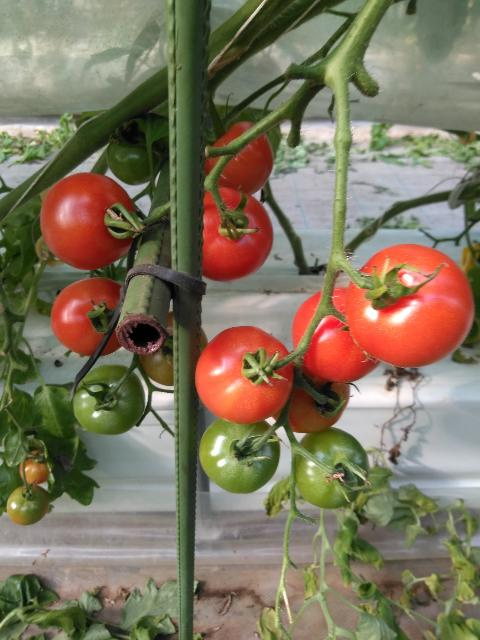l_fully_ripened: (345, 243, 476, 369), (195, 326, 295, 424), (39, 172, 138, 270), (292, 285, 379, 384), (200, 186, 274, 283), (51, 277, 123, 356), (203, 122, 274, 196)
l_green: (293, 426, 370, 509), (198, 418, 280, 494), (73, 364, 145, 435), (106, 127, 164, 186), (7, 483, 50, 526)
l_half_ripened: (271, 349, 350, 434), (137, 312, 209, 387), (20, 449, 49, 485)
